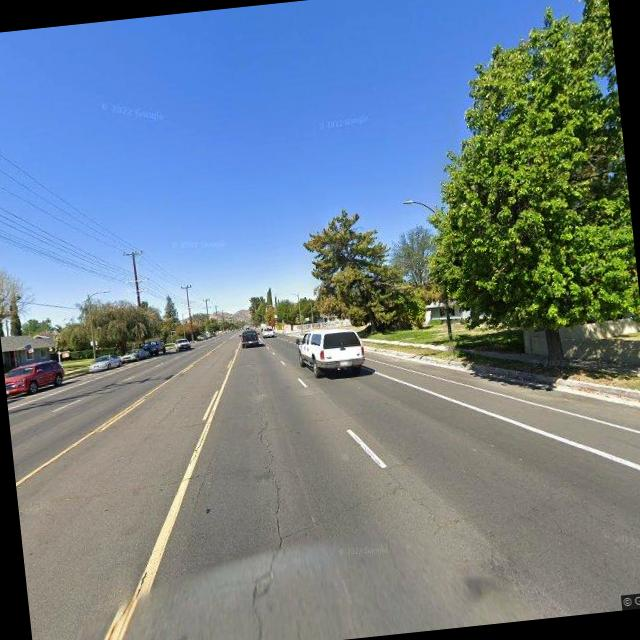crack: (224, 406, 300, 640), (15, 464, 216, 512), (267, 486, 403, 544)
